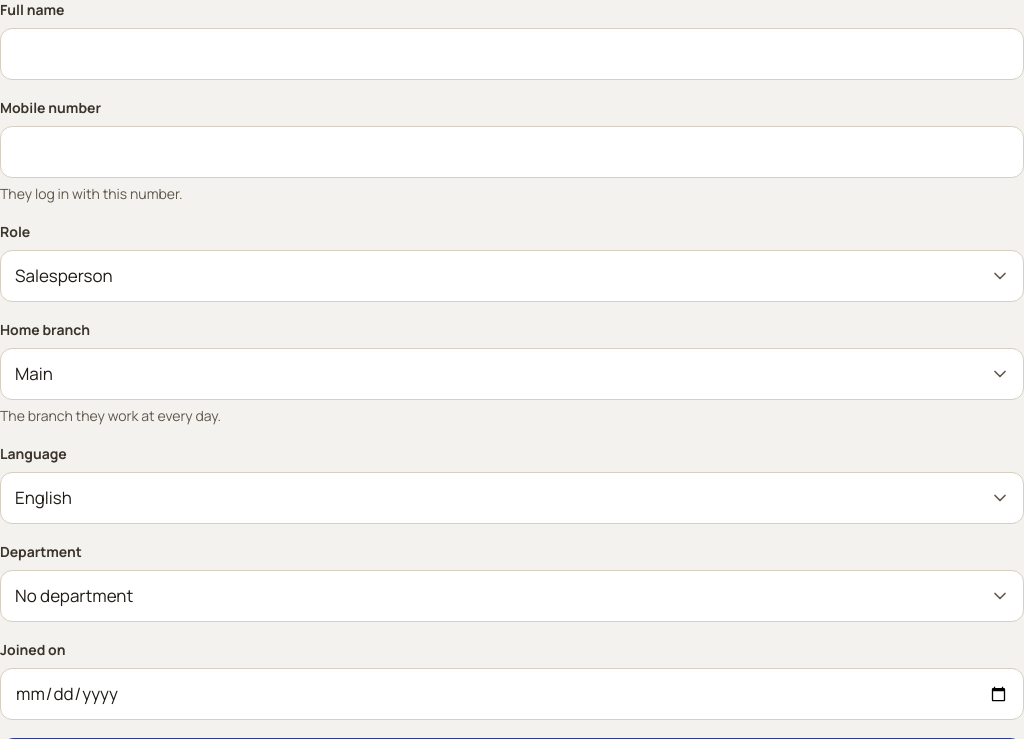
StaffForm › offers extra branches to a manager only, and never their own branch
This screenshot has width=1024, height=739.
Select "Salesperson" in the dropdown labelled "Role" at coordinates (512, 276), box [0,250,1023,302]
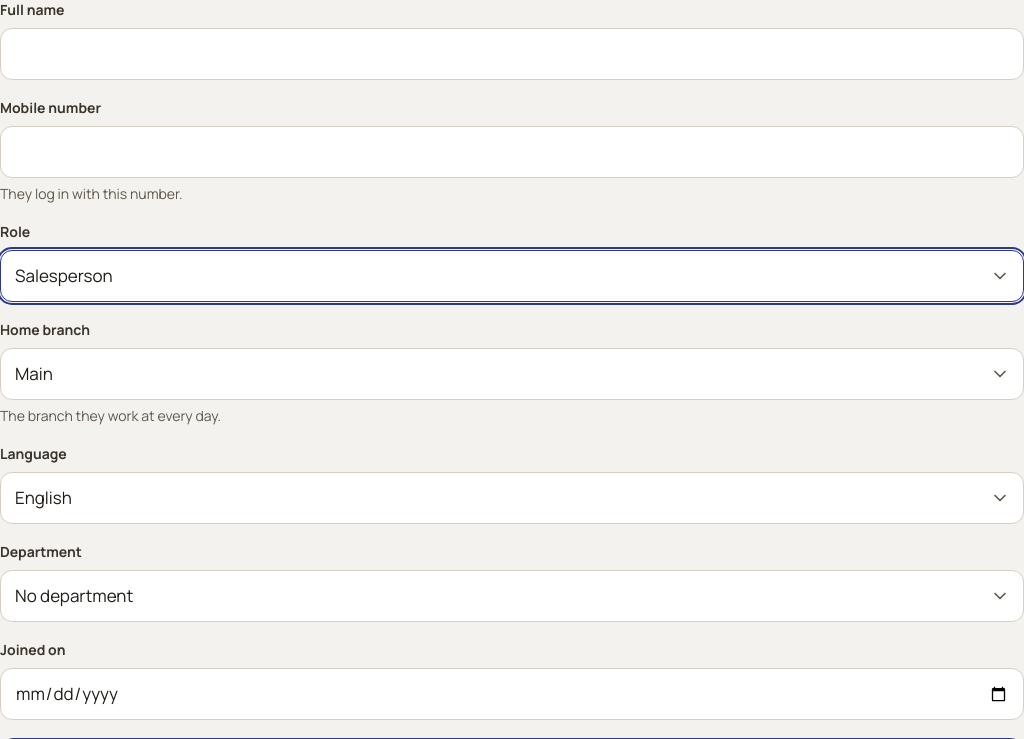
expect the element "Extra branches" is not shown: met
Select "Manager" in the dropdown labelled "Role" at coordinates (512, 276), box [0,250,1023,302]
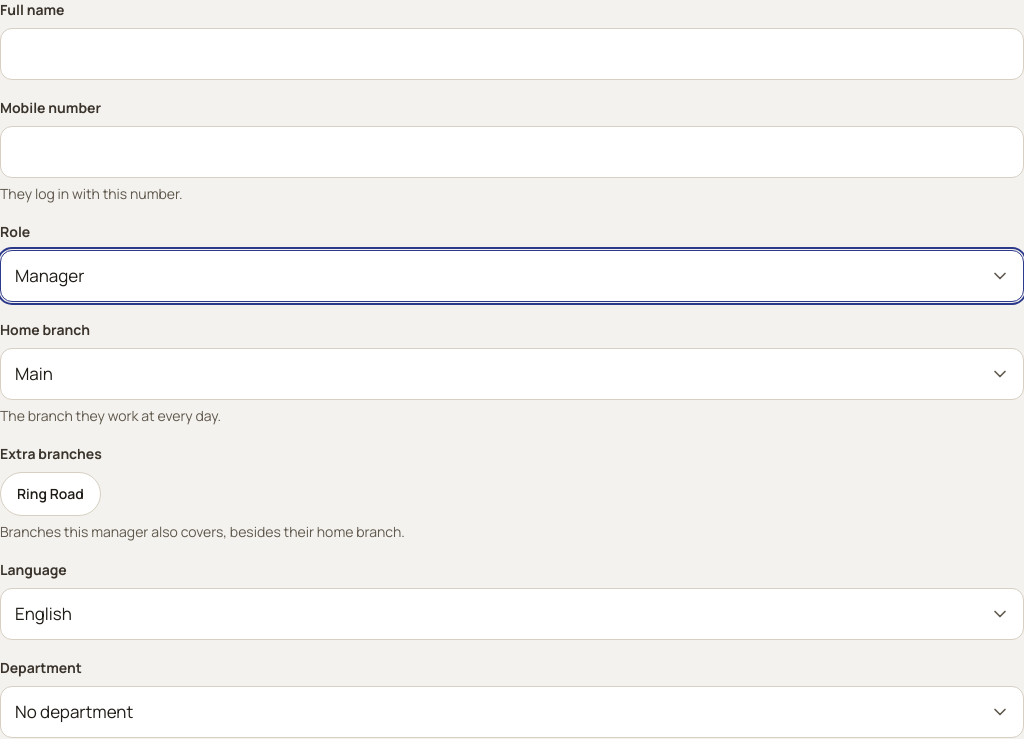
expect the button "Ring Road" is shown: met, box [0,472,101,516]
Move the home branch and the chips follow.
Select "Ring Road" in the dropdown labelled "Home branch" at coordinates (512, 374), box [0,348,1023,400]
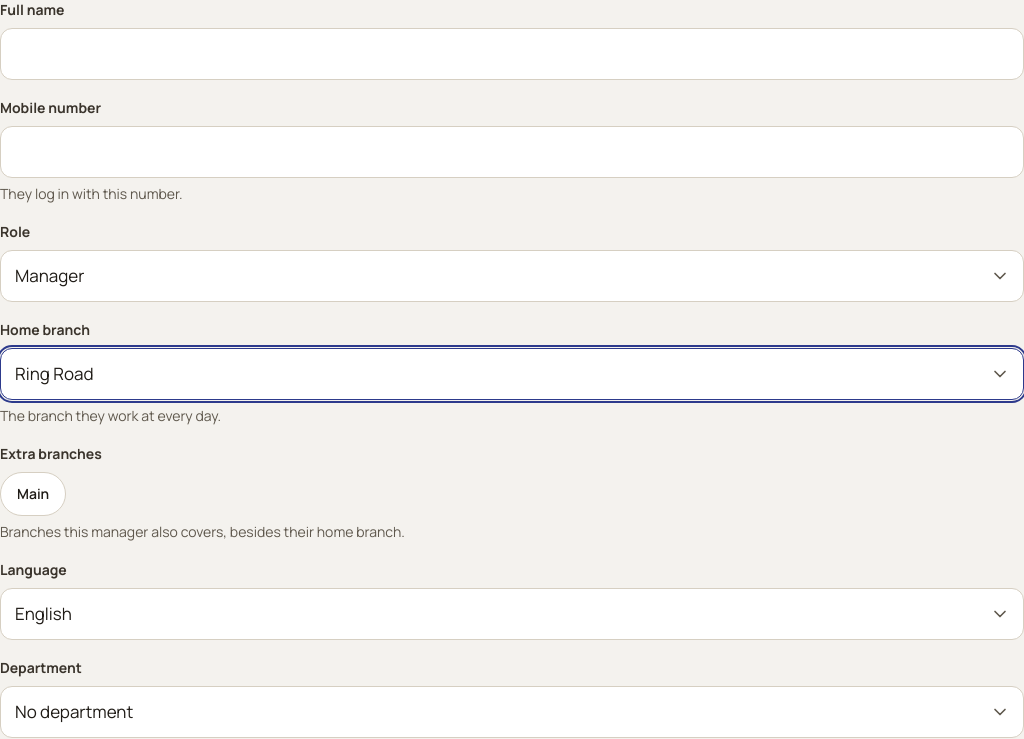
expect the button "Main" is shown: met, box [0,472,66,516]
